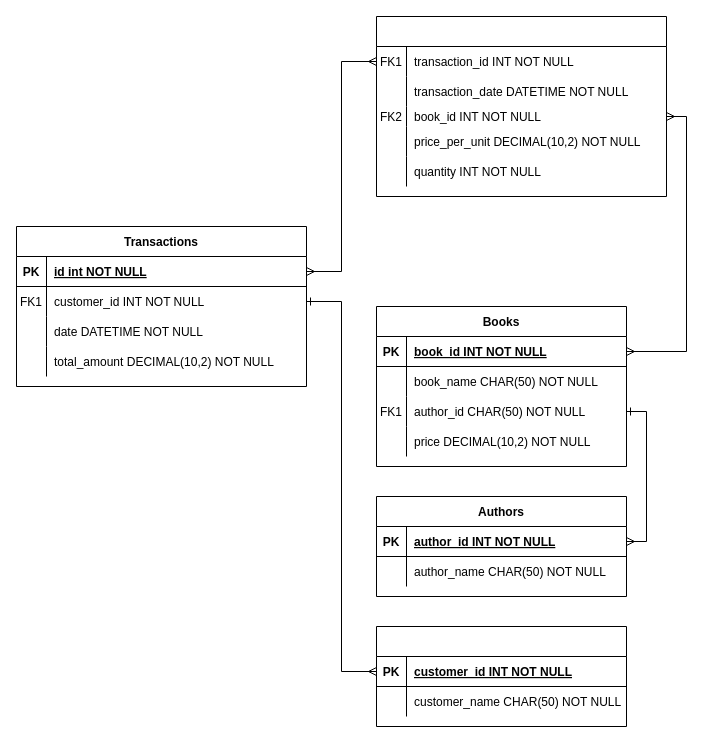
This 703x743 diagram has some shape labels left out. The box of each missing label's shape, as (x1, y1, x2, y2) in pixels:
Customers: (376, 626, 626, 726)
TransactionDetails: (376, 16, 666, 196)
